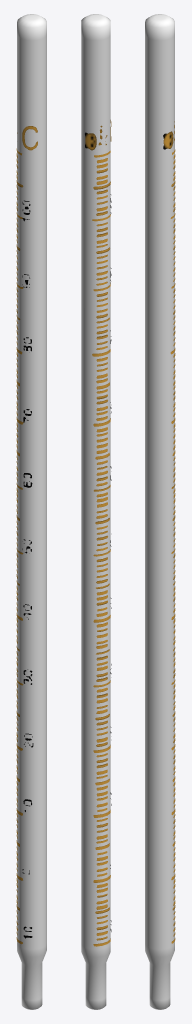
Rendered from thermometre.gltf.
3 renders of one model, left to right at view 1: azimuth 90°, elevation 25°; view 2: azimuth 210°, elevation 25°; view 3: azimuth 270°, elevation 25°, orthographic.
Parts seen in each view (by area): view 1: thermometer; view 2: thermometer; view 3: thermometer.
Part boxes in pixels (x1,y1,x2,y2): thermometer: [16, 14, 46, 1009]; thermometer: [81, 14, 111, 1009]; thermometer: [145, 14, 175, 1009].
Size of the model in its own units: 0.0181 by 0.6505 by 0.0181.
Materials: 3 (1 with a texture image).
